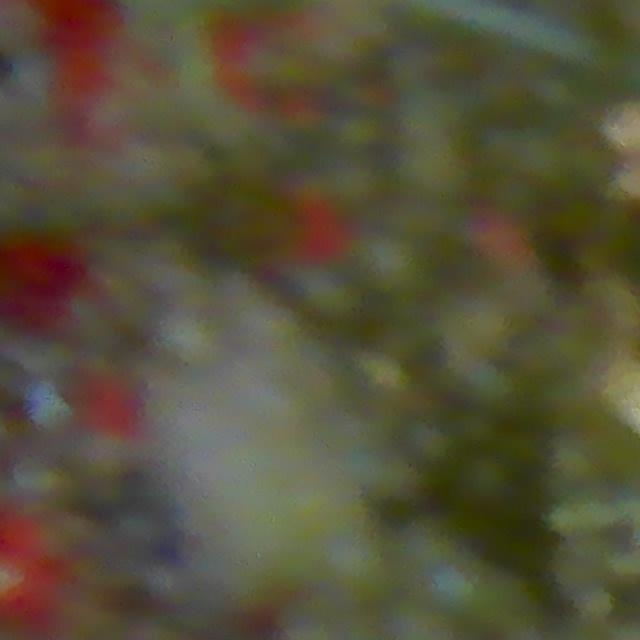SeaGrape: (355, 230, 428, 299), (421, 559, 485, 620), (413, 142, 455, 204)
